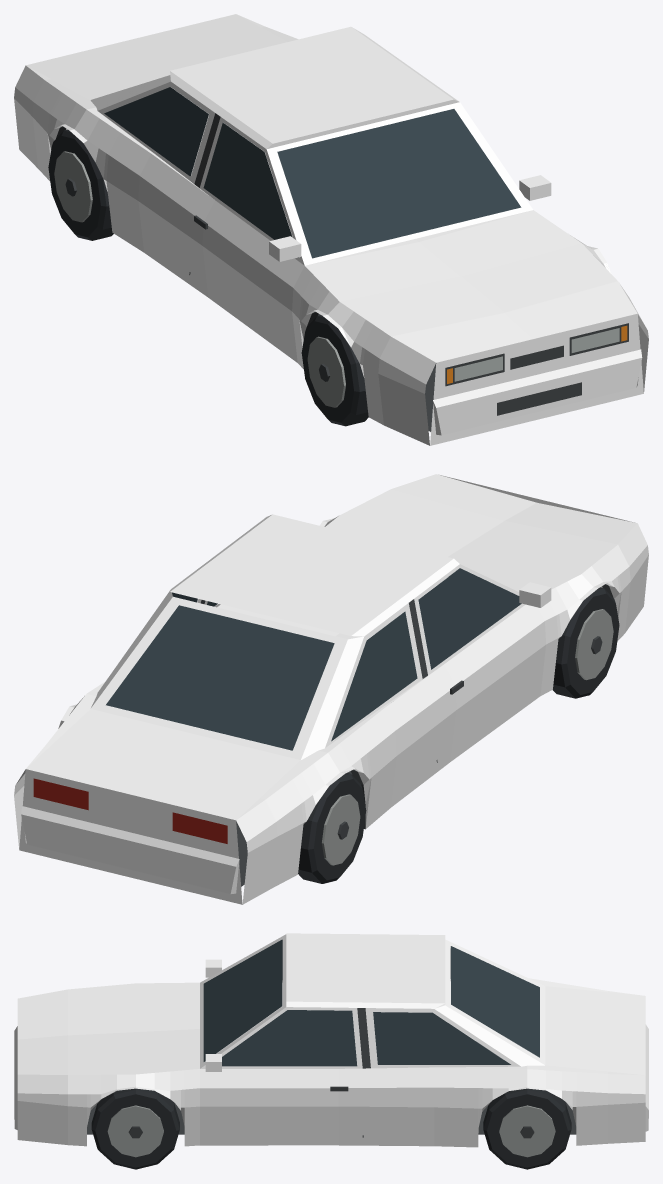
Rendered from rauhe_fink.glb.
3 renders of one model, top to bottom at view 1: azimuth 30°, elevation 25°; view 2: azimuth 150°, elevation 25°; view 3: azimuth 270°, elevation 25°, orthographic. The views are drawn at different scales.
Visible parts, largest first — view 1: rauhe_fink; view 2: rauhe_fink; view 3: rauhe_fink.
Boxes of the visible parts, box(x1,y1,x2,y2) form: rauhe_fink: box(14, 14, 648, 445); rauhe_fink: box(14, 474, 648, 904); rauhe_fink: box(14, 933, 648, 1169).
Bounding box in the file's own units: 1.79 × 1.23 × 4.62.
8 materials, 1 textured.
